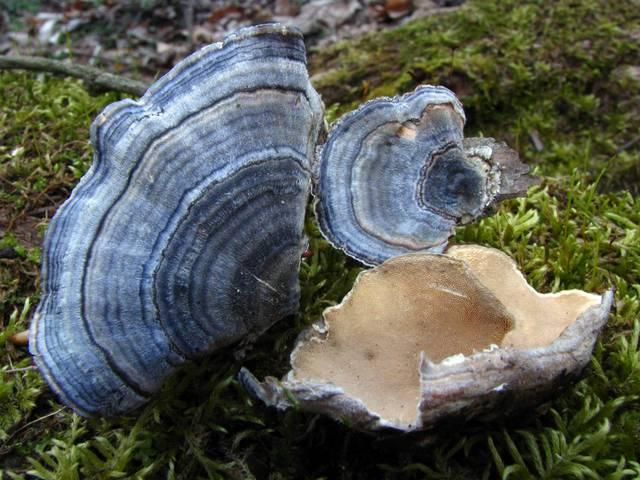poisonous_mushroom: (23, 20, 327, 418), (238, 241, 615, 437), (311, 82, 542, 267)
